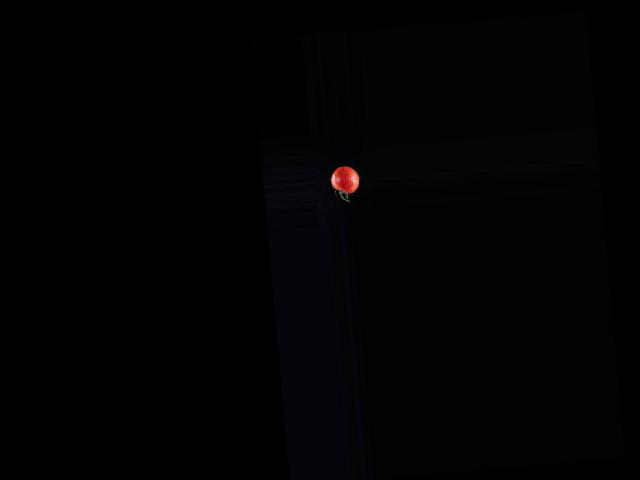tomato: (330, 165, 360, 195)
